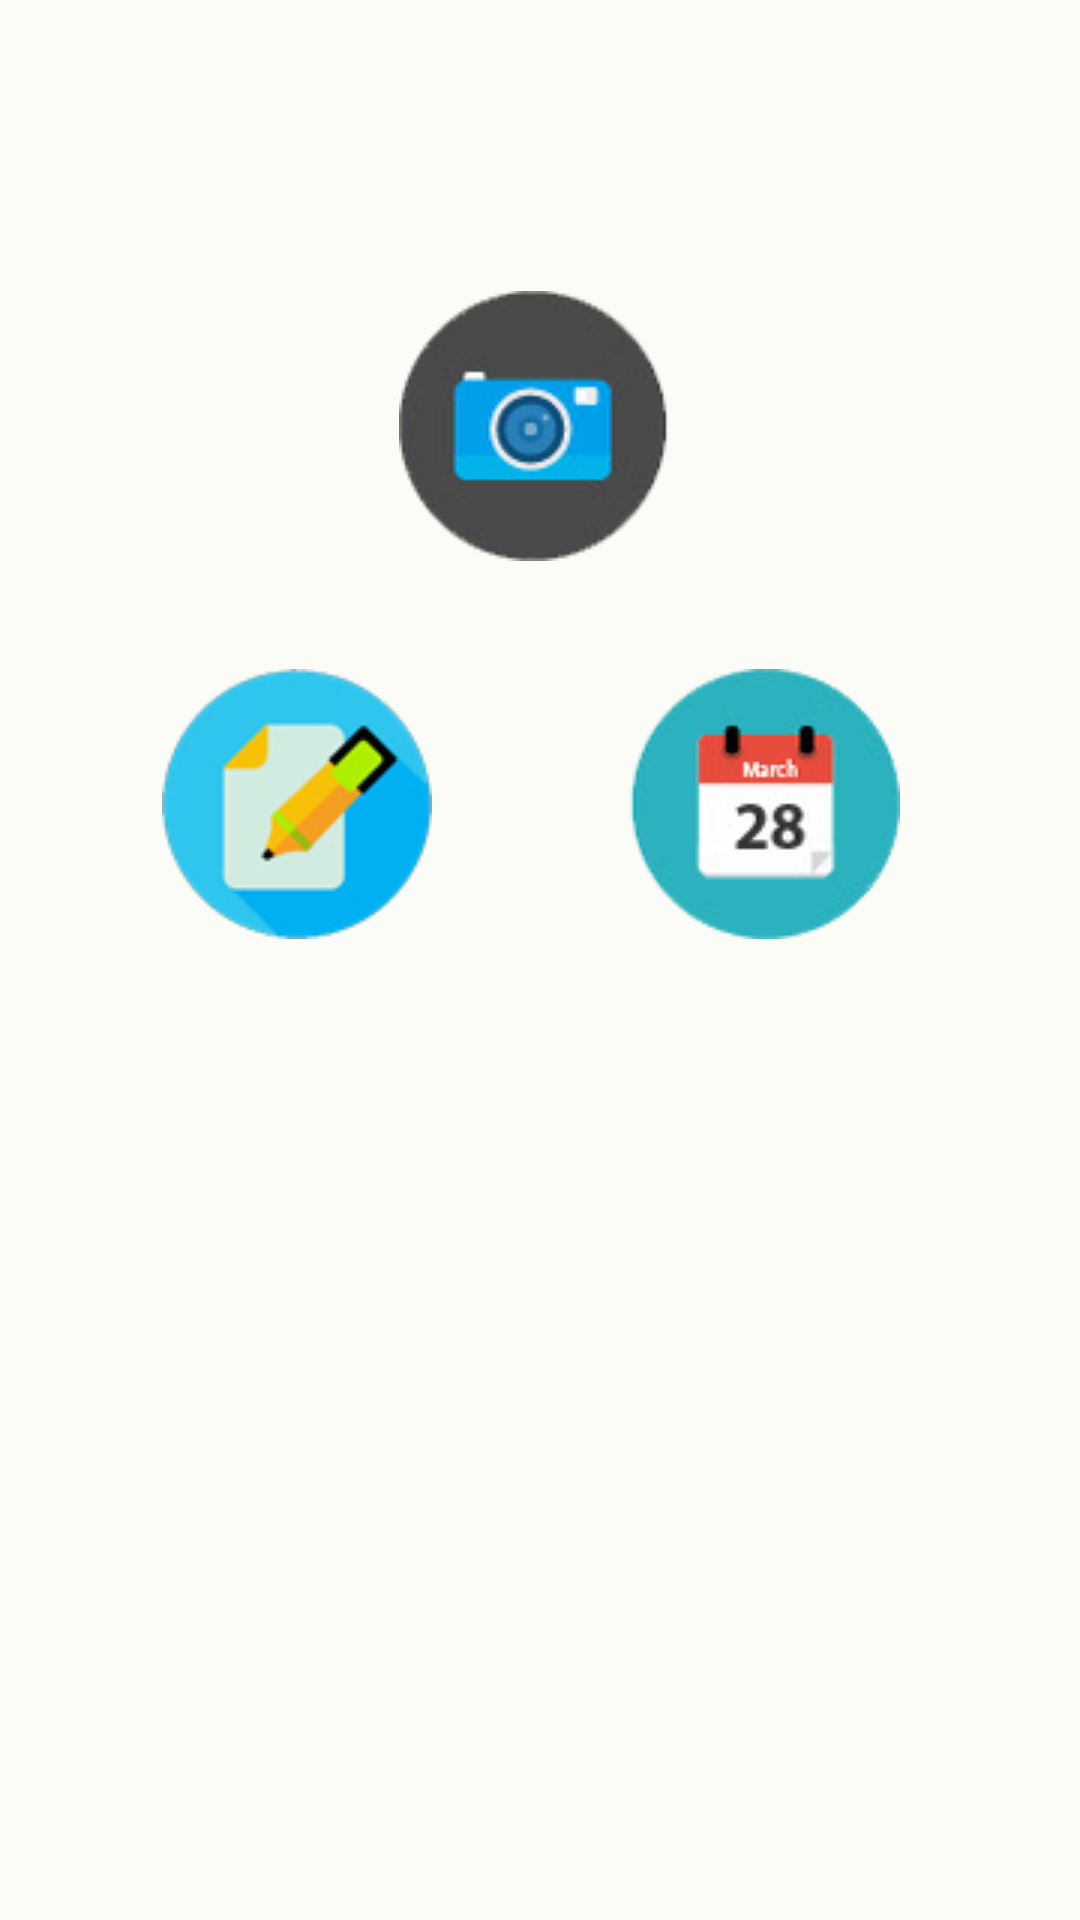

Named icons in this screenshot (1080x1920) and their centers, (x=x, y=y):
eventpost: (x=765, y=804)
photopost: (x=533, y=426)
textpost: (x=297, y=804)
